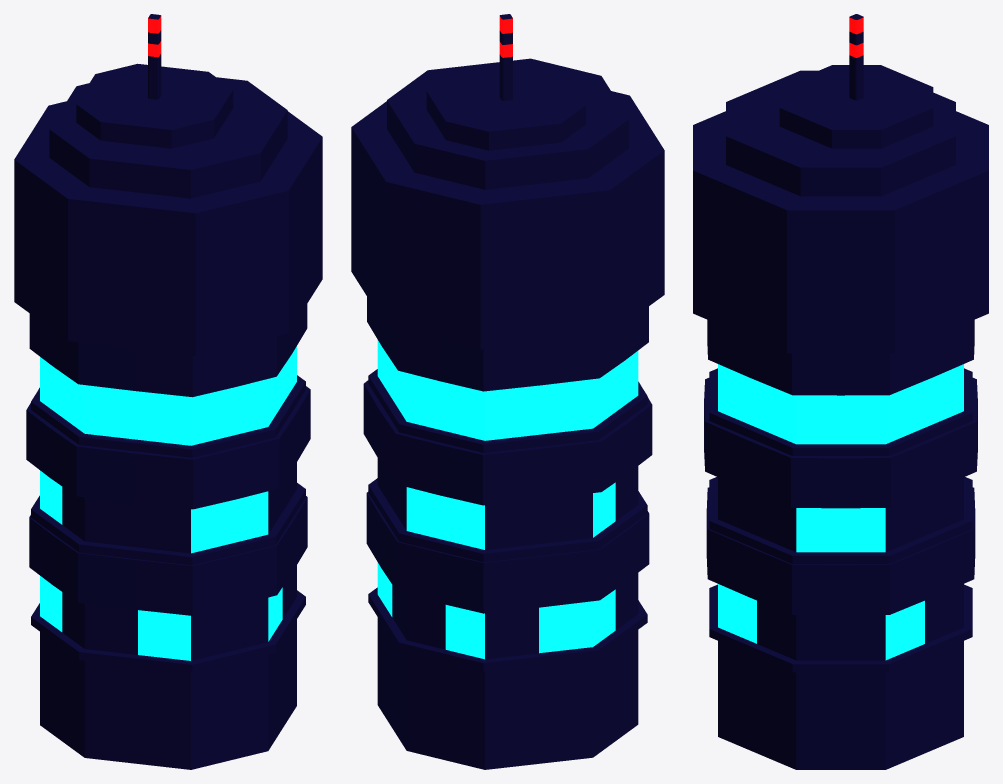
Rendered from house9blend.glb.
The picture shows the model from 3 angles, left to right: view 1: azimuth 30°, elevation 25°; view 2: azimuth 150°, elevation 25°; view 3: azimuth 270°, elevation 25°; orthographic projection.
Visible parts, largest first — view 1: 立方体, 立方体.001; view 2: 立方体, 立方体.001; view 3: 立方体, 立方体.001.
Boxes of the visible parts, bbox=[...] form: 立方体: bbox=[26, 304, 310, 769]; 立方体.001: bbox=[14, 14, 322, 355]; 立方体: bbox=[363, 297, 652, 769]; 立方体.001: bbox=[351, 14, 664, 349]; 立方体: bbox=[704, 320, 977, 769]; 立方体.001: bbox=[693, 14, 988, 353].
Bounding box in the file's own units: 17.31 × 45.09 × 17.31.
